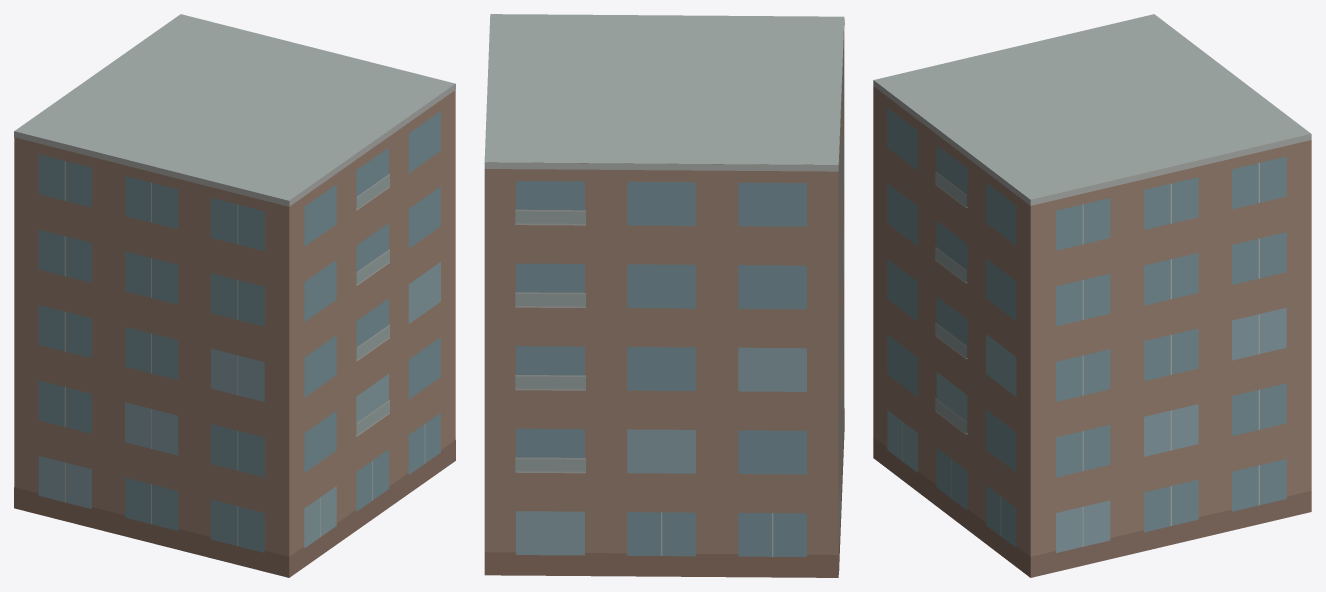
File: survey-upis-32656450.glb
3 views of the same model, side by side, from view 1: azimuth 30°, elevation 25°; view 2: azimuth 150°, elevation 25°; view 3: azimuth 270°, elevation 25° (orthographic). The views are drawn at different scales.
Parts seen in each view (by area): view 1: survey-upis-32656450.tmp; view 2: survey-upis-32656450.tmp; view 3: survey-upis-32656450.tmp.
Boxes of the visible parts, x1,y1,x2,y2 form: survey-upis-32656450.tmp: [14, 14, 455, 577]; survey-upis-32656450.tmp: [484, 14, 844, 577]; survey-upis-32656450.tmp: [873, 14, 1311, 577].
Bounding box in the file's own units: 16.09 × 15.25 × 16.03.
